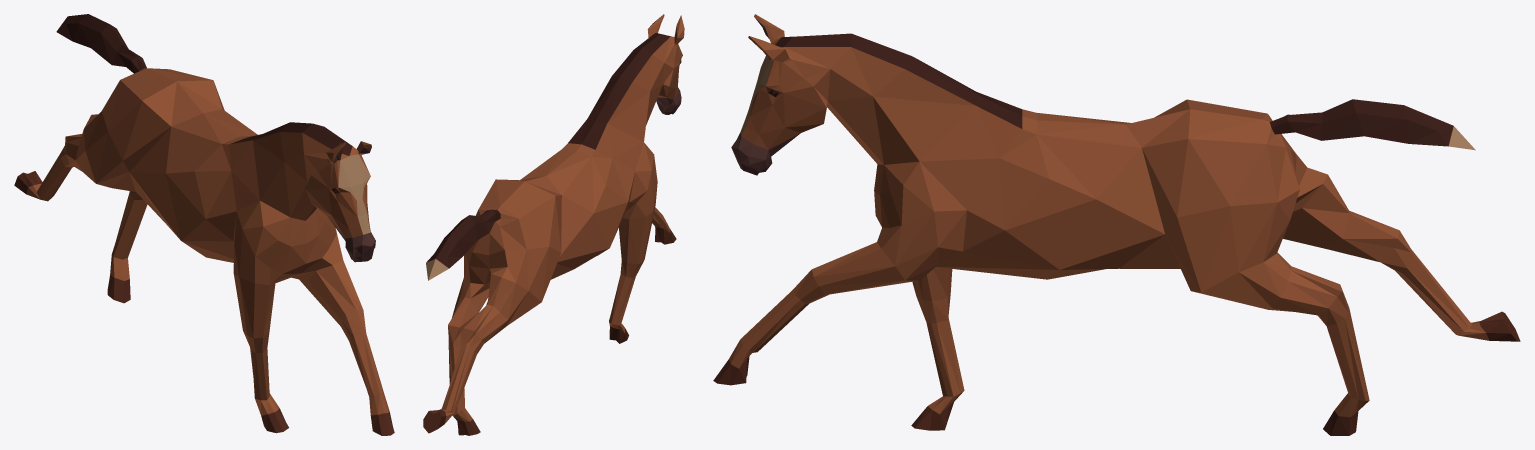
Rendered from horse2.glb.
3 views of the same model, side by side, from view 1: azimuth 30°, elevation 25°; view 2: azimuth 150°, elevation 25°; view 3: azimuth 270°, elevation 25° (orthographic). The views are drawn at different scales.
Bounding box in the file's own units: 61.1 × 182 × 322.
